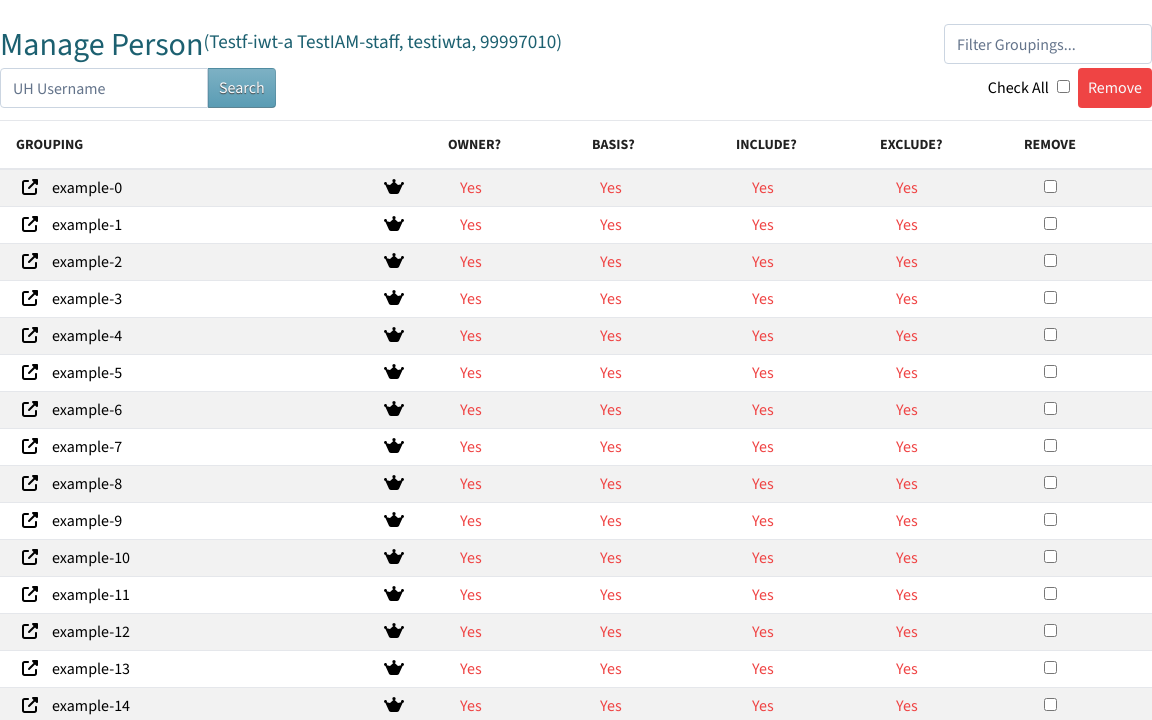
Scenario: PersonTable › opens Remove modal if the Remove All Checkbox box is clicked
Click the checkbox labelled "Check All Remove" at {"x": 1063, "y": 86}, box left=1057, top=80, right=1070, bottom=93
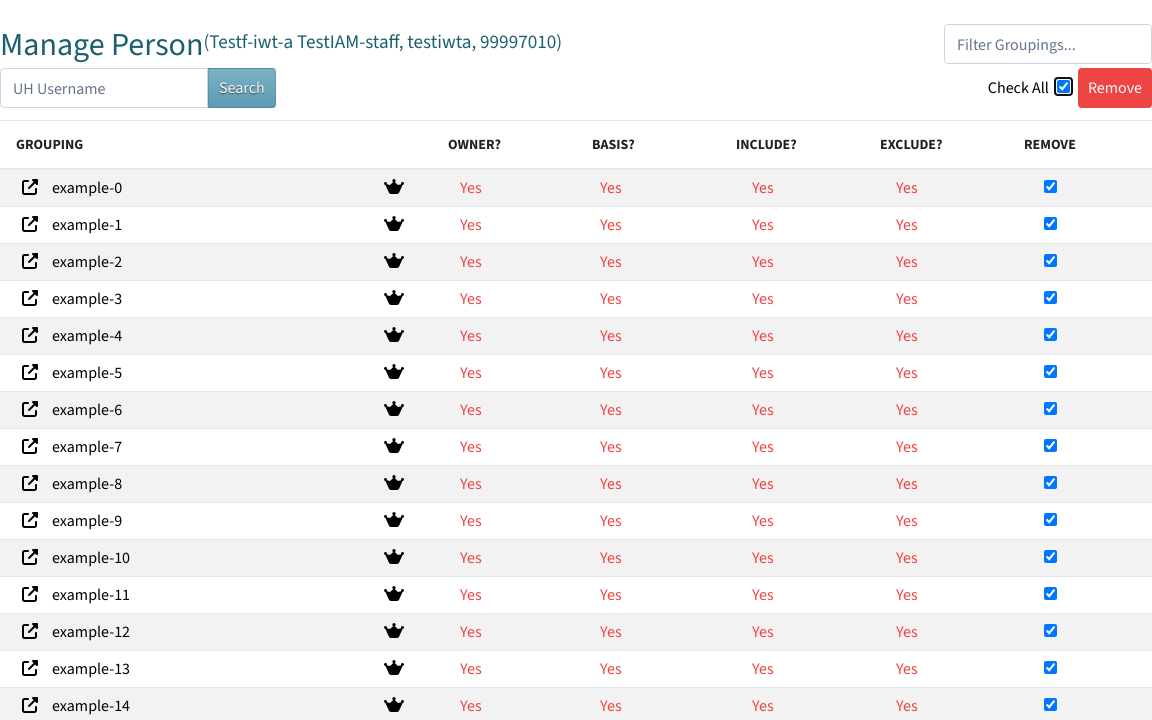
Expected: the checkbox labelled "Check All Remove" is checked, left=1057, top=80, right=1070, bottom=93
Expected: the checkbox with test id "person-remove" in the row of "example-0" is checked, left=1044, top=180, right=1057, bottom=192
Expected: the 2nd checkbox with test id "person-remove" is checked, left=1044, top=216, right=1057, bottom=230
Click the button "Remove" at {"x": 1115, "y": 88}, box left=1078, top=68, right=1151, bottom=108
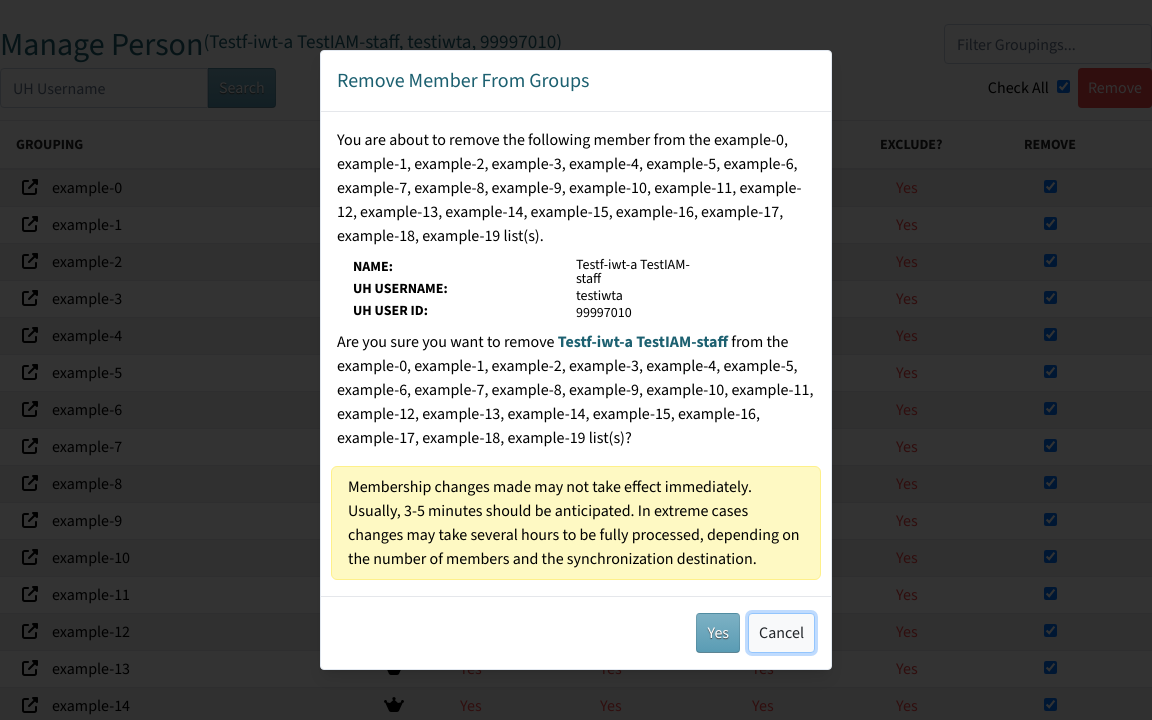
Expected: the dialog is shown, left=320, top=50, right=832, bottom=670
Expected: the heading "Remove Member From Groups" is shown, left=321, top=67, right=831, bottom=112
